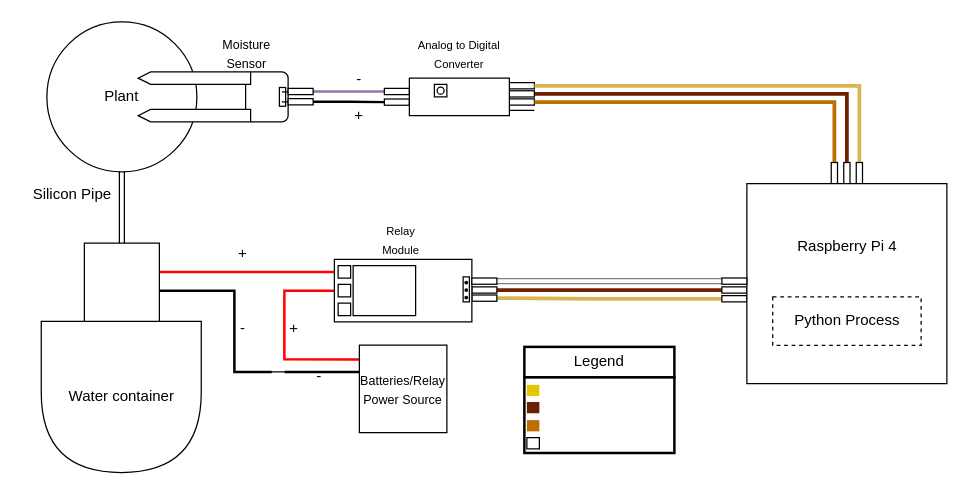
Image size: 969x495. Some labels were removed from this diagram. The centre of each missing label's shape, as x and y in pixels:
3v3 Power Ground GPIO 21 GPIO 7: the point at 598,415
Mini Pump: the point at 121,289
